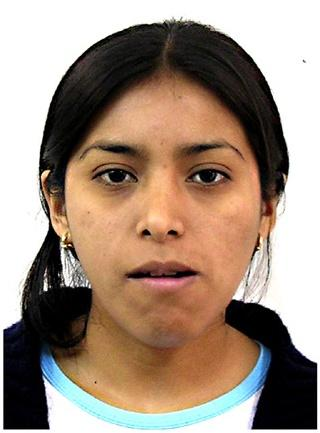No Mask: (29, 25, 308, 404)
